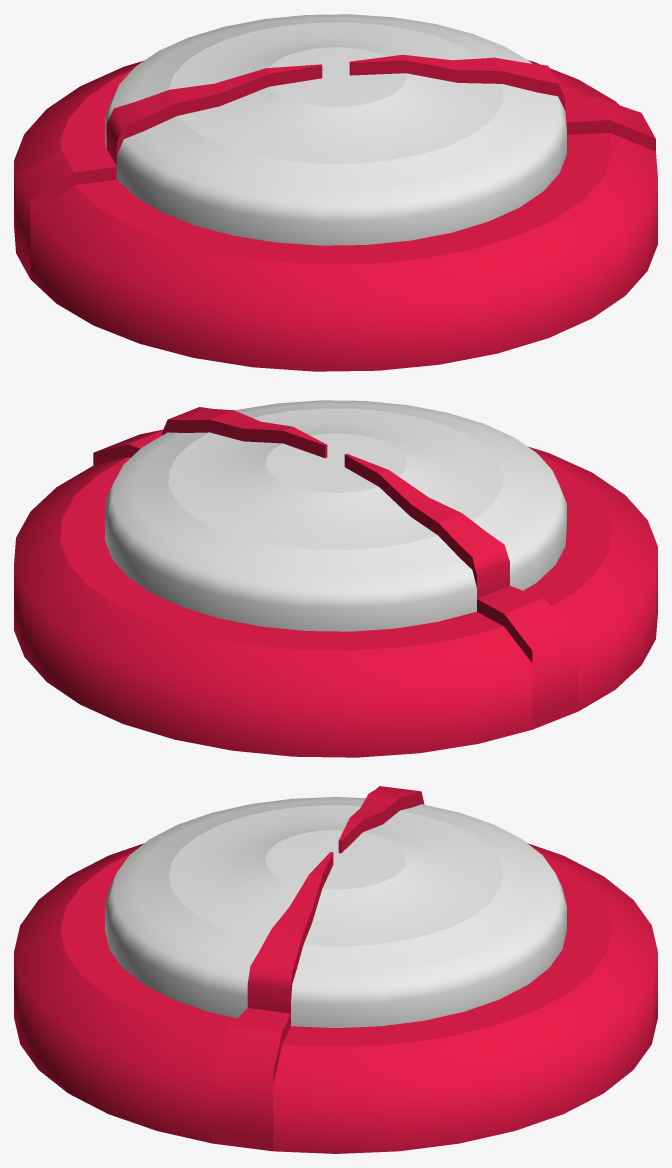
Rendered from Light.fbx.
The picture shows the model from 3 angles, top to bottom: view 1: azimuth 30°, elevation 25°; view 2: azimuth 150°, elevation 25°; view 3: azimuth 270°, elevation 25°; orthographic projection.
Parts seen in each view (by area): view 1: Cylinder; view 2: Cylinder; view 3: Cylinder.
Part boxes in pixels (x1=…): Cylinder: x1=14, y1=14, x2=657, y2=371; Cylinder: x1=14, y1=400, x2=657, y2=757; Cylinder: x1=14, y1=786, x2=657, y2=1153.
Size of the model in its own units: 494 by 145 by 494.
